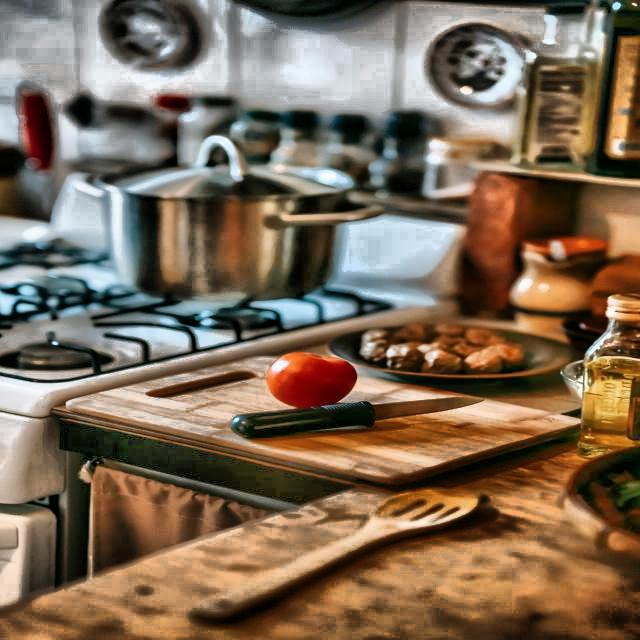knife: (218, 391, 492, 438)
